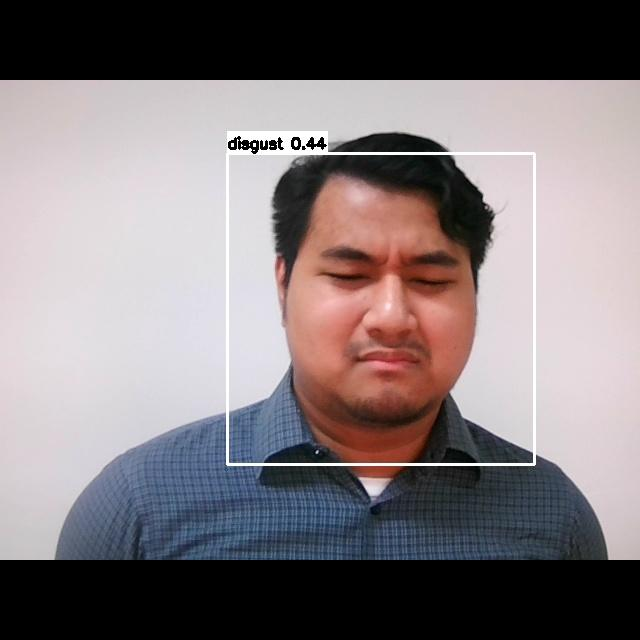Disgust: (291, 221, 474, 412)
